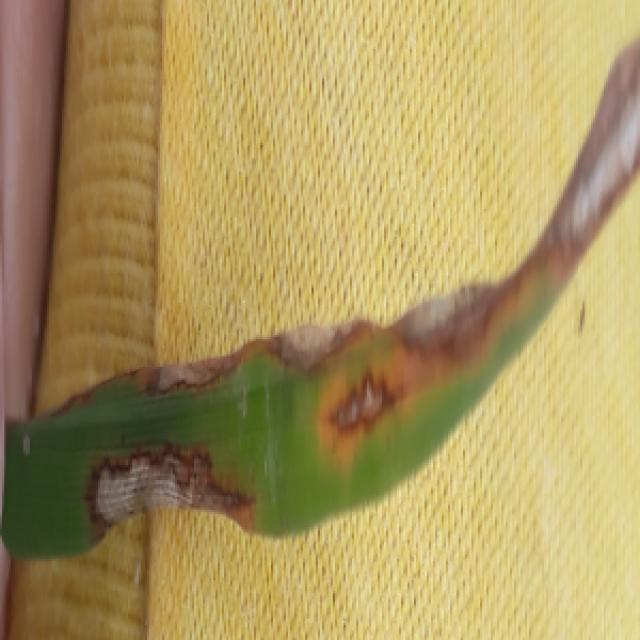Rice_Blast: (505, 0, 640, 281), (83, 447, 258, 542), (115, 354, 288, 420), (392, 275, 510, 361), (318, 372, 402, 458), (264, 319, 370, 378)
